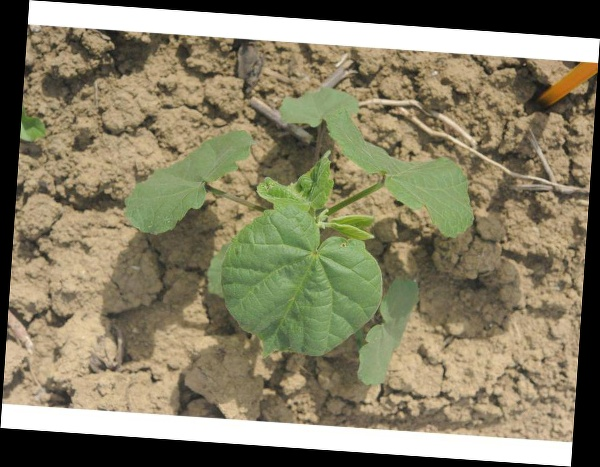velvet: (126, 84, 473, 381)
